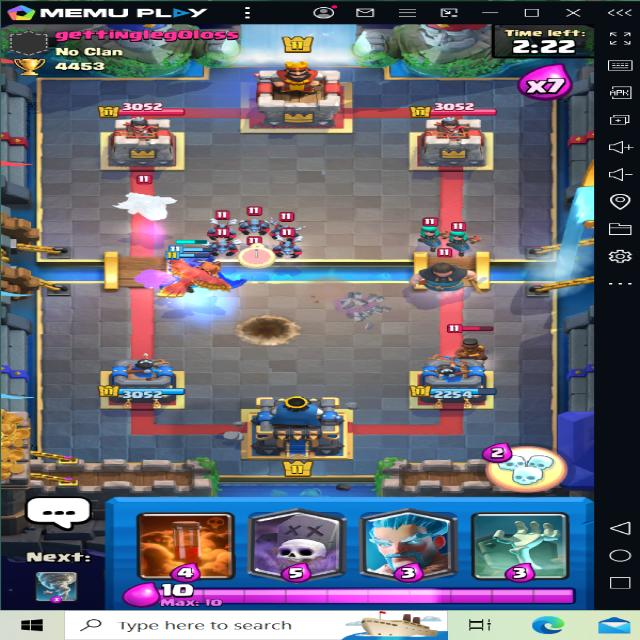Edragon: (116, 175, 180, 222)
Minions: (272, 232, 310, 258), (239, 206, 272, 233), (273, 213, 305, 239), (206, 209, 235, 235), (209, 235, 242, 255)
Ramrider: (450, 325, 494, 369)
Rascalboy: (412, 252, 485, 296)
Rascalgirl: (441, 216, 486, 250), (410, 212, 451, 242)
